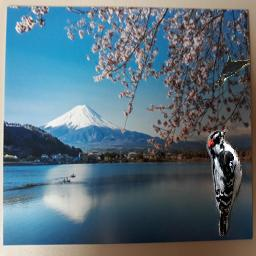Crow: (214, 53, 250, 86)
Woodpecker: (206, 128, 242, 237)
